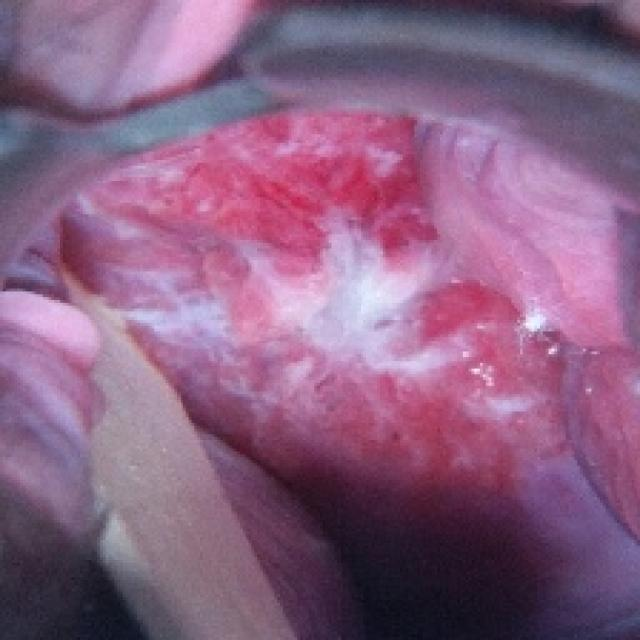type-2: (72, 76, 608, 640)
